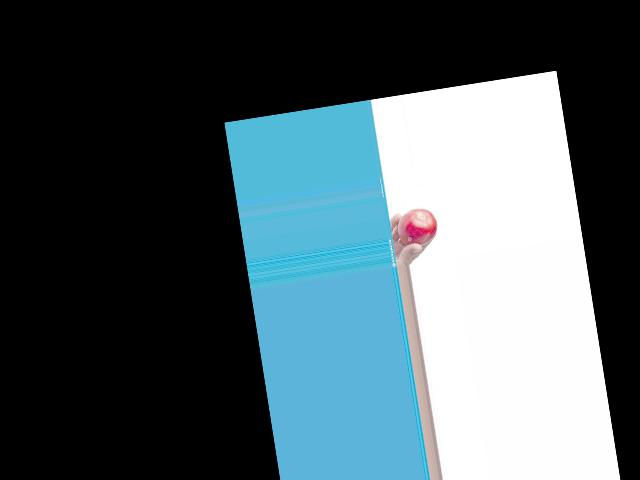tomato: (394, 205, 439, 249)
